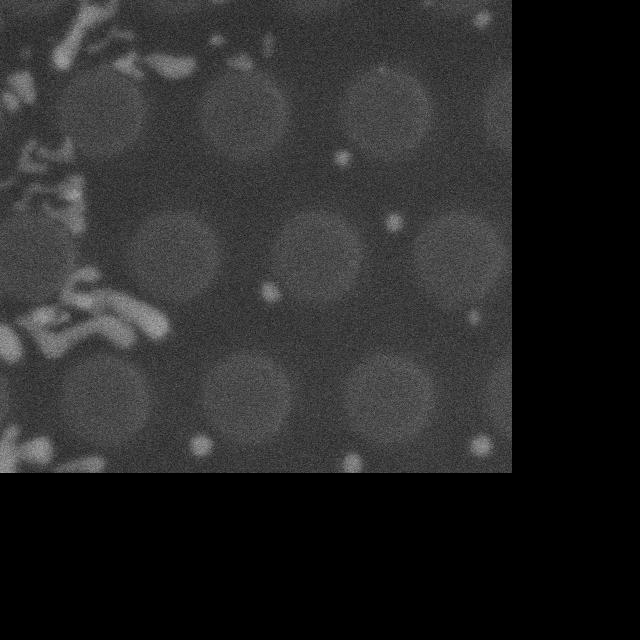Dendrite: (7, 265, 169, 358), (52, 0, 129, 70), (14, 173, 86, 233), (111, 49, 194, 79), (0, 425, 51, 473), (18, 137, 79, 174), (76, 24, 138, 57), (5, 72, 35, 112), (56, 455, 105, 473), (189, 433, 213, 458), (468, 434, 492, 458), (259, 280, 281, 304), (341, 452, 363, 473), (226, 52, 254, 67), (384, 213, 403, 232), (332, 149, 351, 168), (473, 10, 491, 29), (262, 32, 275, 57), (17, 44, 33, 64), (466, 308, 480, 326), (0, 176, 15, 192), (209, 33, 226, 47)
